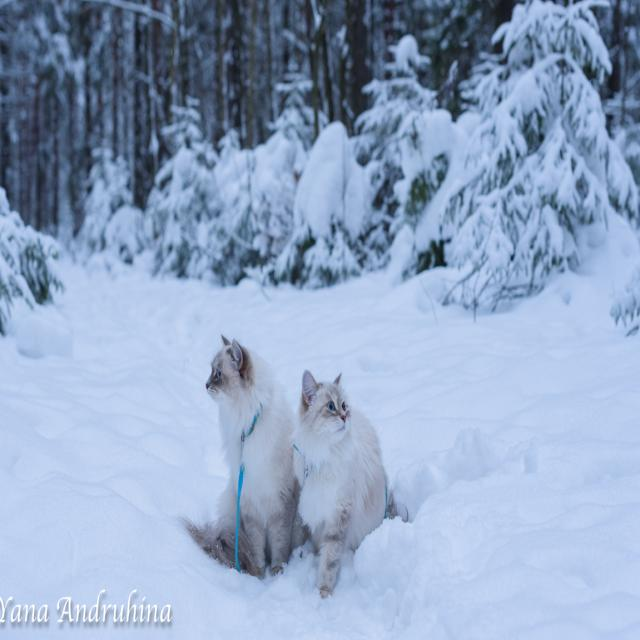Neva Masquerade: (185, 330, 295, 580), (295, 365, 393, 607)
